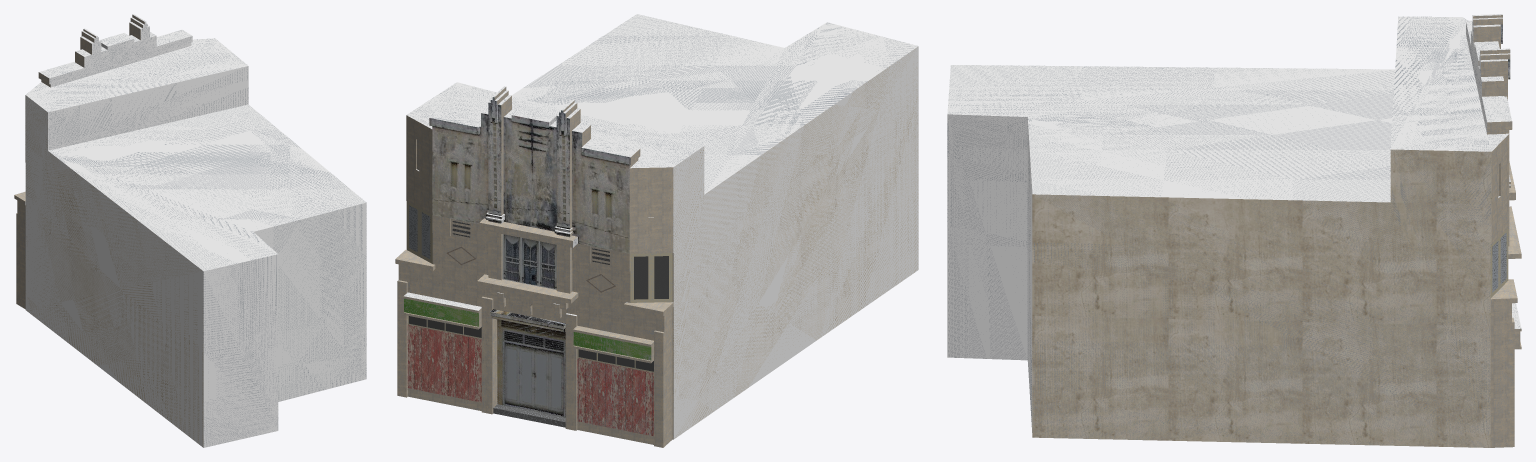
File: 5-Namsin House.dae
3 renders of one model, left to right at view 1: azimuth 30°, elevation 25°; view 2: azimuth 150°, elevation 25°; view 3: azimuth 270°, elevation 25°, orthographic. The views are drawn at different scales.
Visible parts, largest first — view 1: group_0 (×3); view 2: group_0 (×18); view 3: group_0 (×4).
Boxes of the visible parts, bbox=[...] form: group_0 (×3): bbox=[14, 14, 366, 447]; group_0 (×18): bbox=[395, 14, 918, 447]; group_0 (×4): bbox=[947, 14, 1521, 447].
Size of the model in its own units: 487 by 842 by 563.
Materials: 17 (10 with a texture image).
